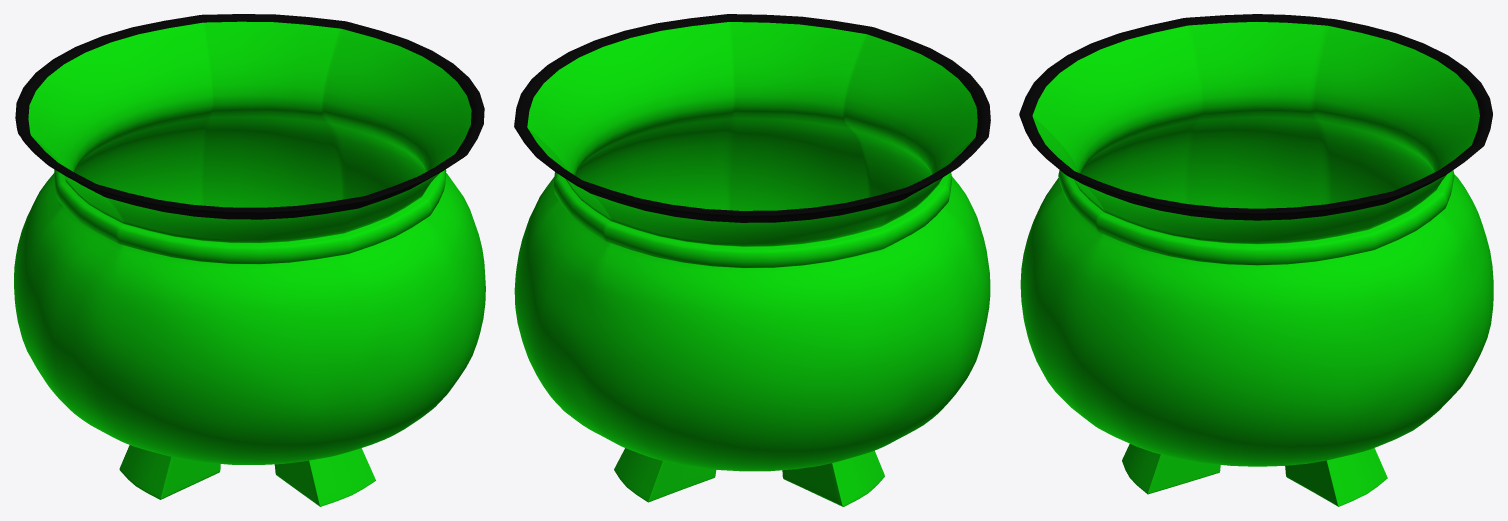
The model's file is lowPolyobj.fbx.
The picture shows the model from 3 angles, left to right: view 1: azimuth 30°, elevation 25°; view 2: azimuth 150°, elevation 25°; view 3: azimuth 270°, elevation 25°; orthographic projection.
Parts seen in each view (by area): view 1: lowPoly1; view 2: lowPoly1; view 3: lowPoly1.
Boxes of the visible parts, x1,y1,x2,y2 form: lowPoly1: [14, 14, 485, 506]; lowPoly1: [514, 14, 990, 506]; lowPoly1: [1019, 14, 1493, 506].
Bounding box in the file's own units: 9.78 × 7.88 × 9.75.
